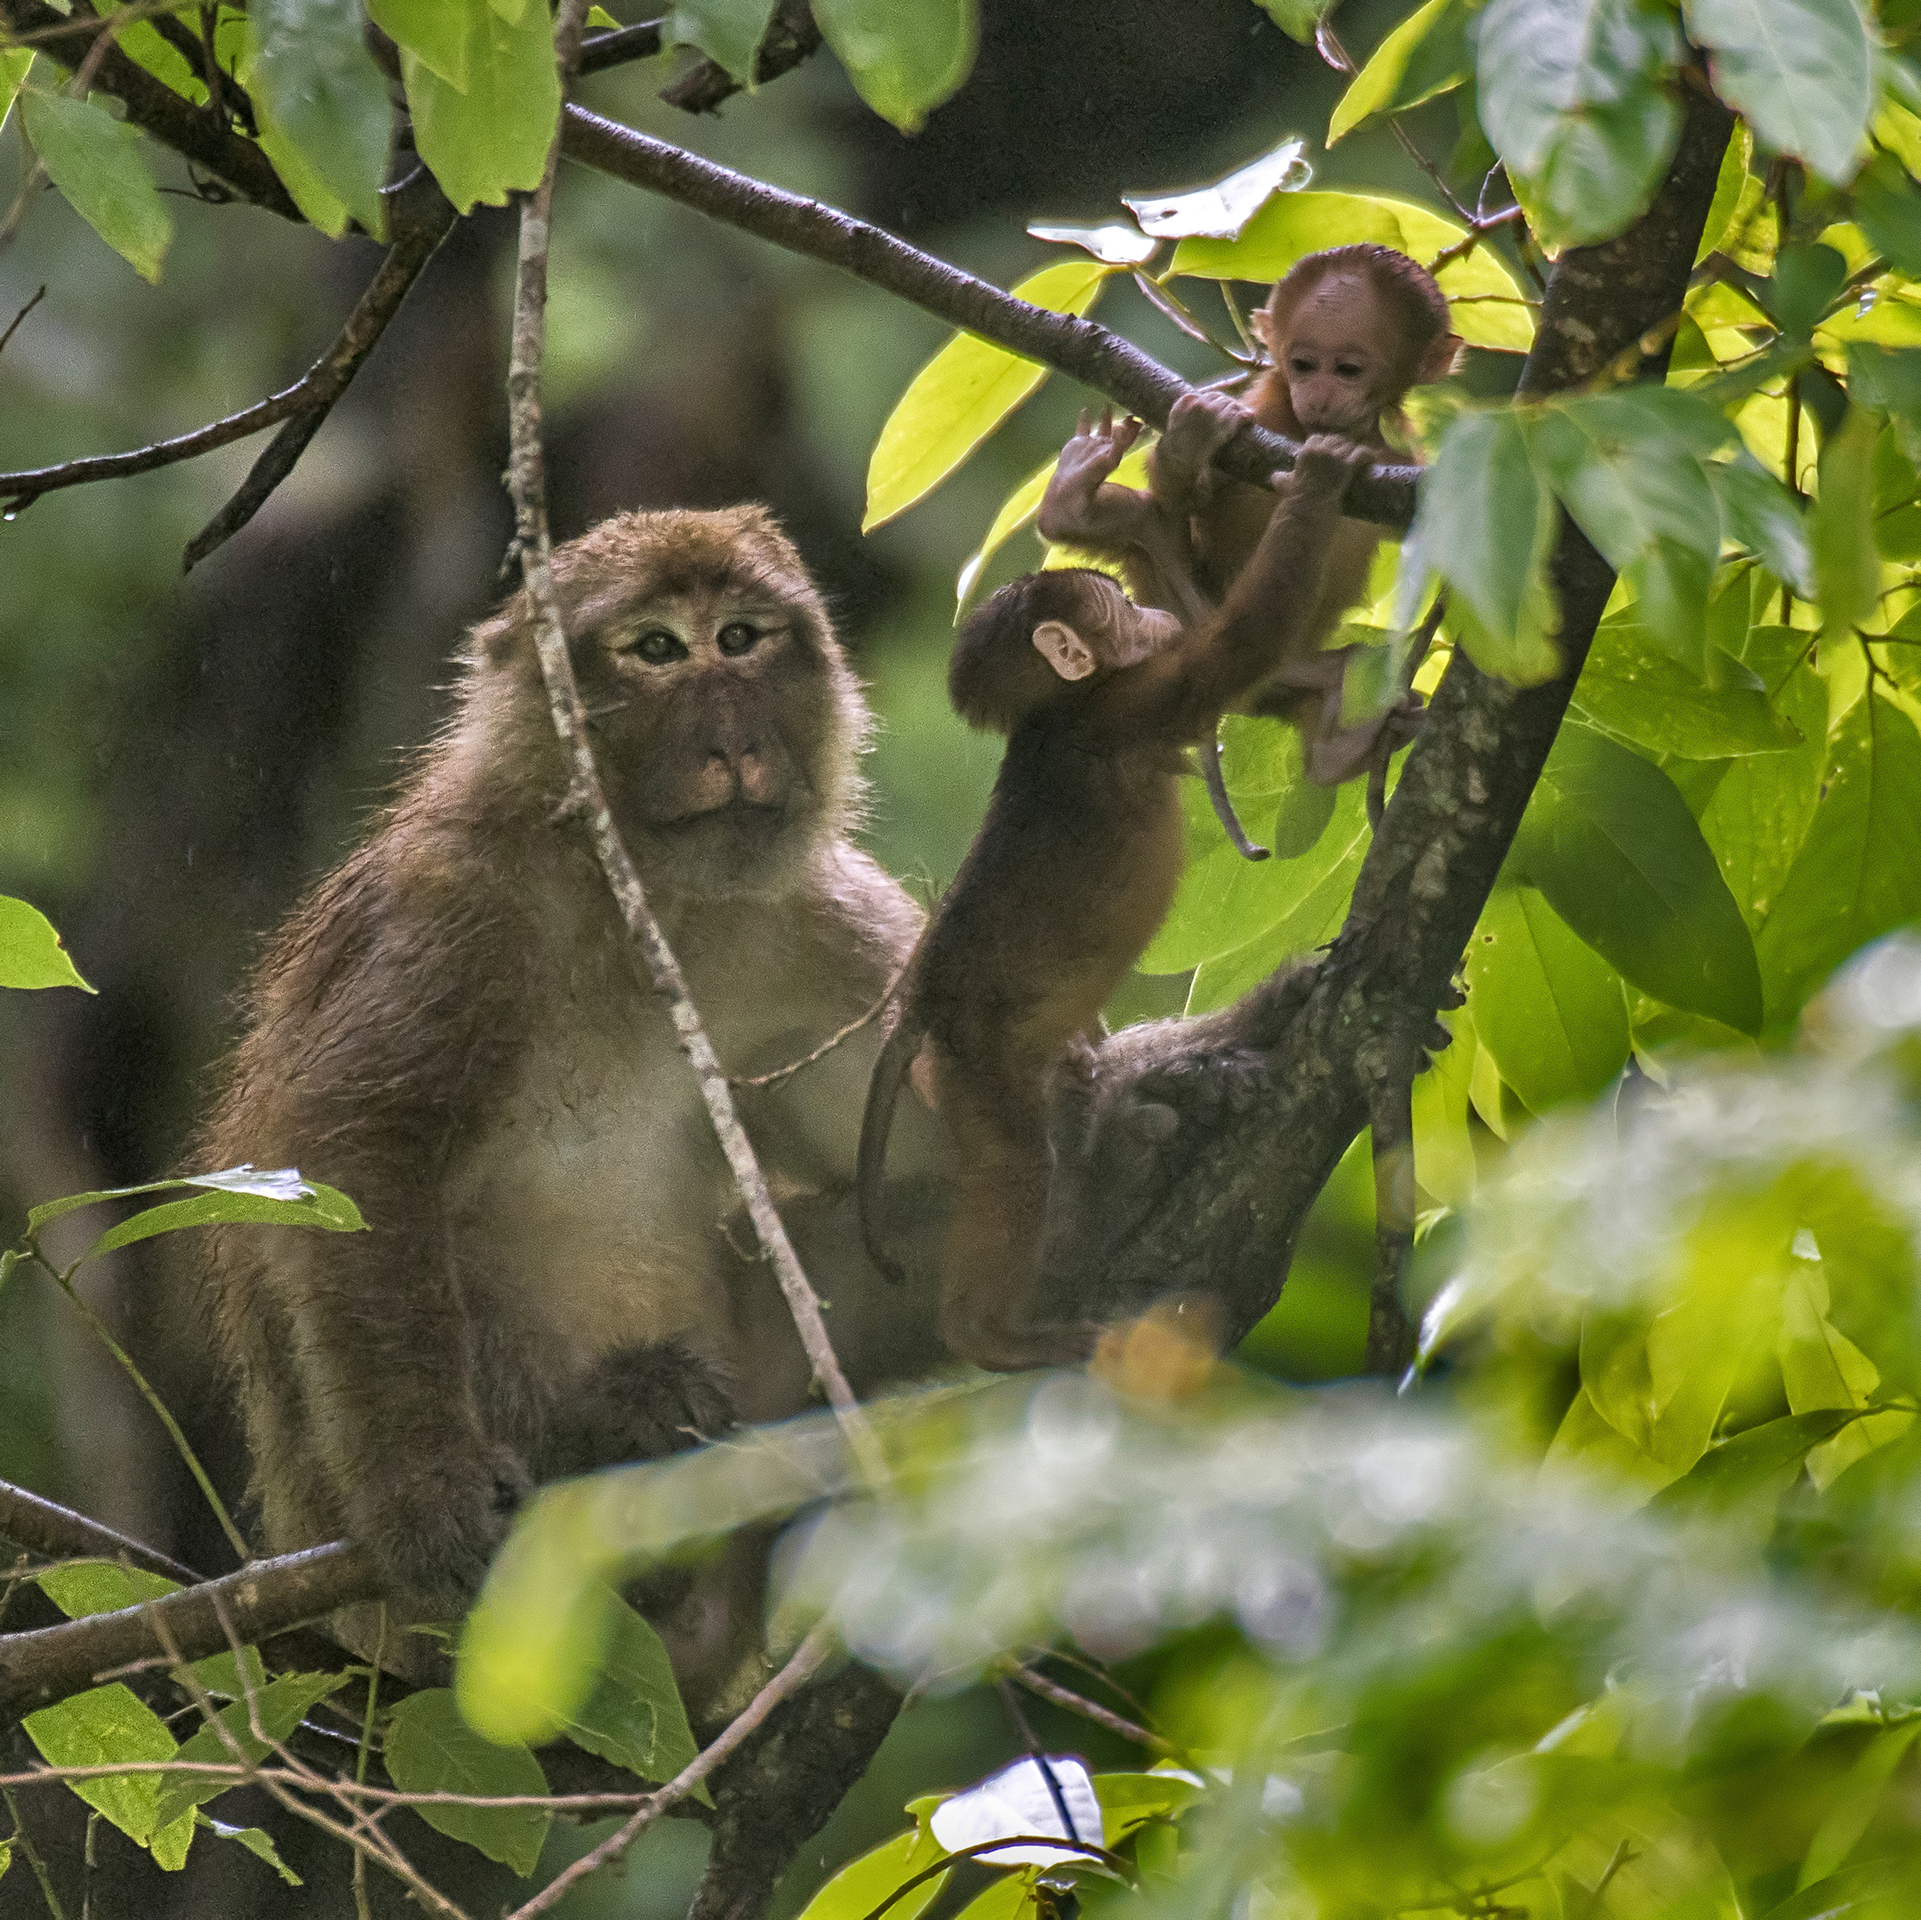monkey: (186, 482, 986, 1751), (773, 508, 1294, 1422), (947, 142, 1541, 879)
